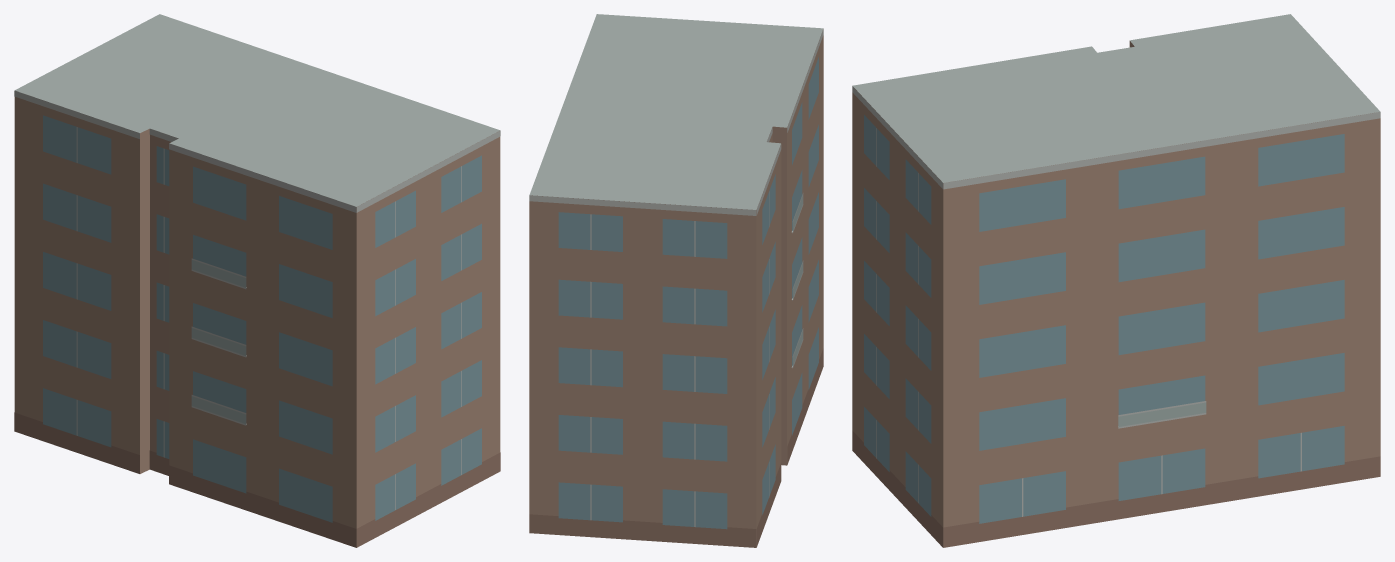
The model's file is survey-upis-32941962.glb.
3 views of the same model, side by side, from view 1: azimuth 30°, elevation 25°; view 2: azimuth 150°, elevation 25°; view 3: azimuth 270°, elevation 25° (orthographic). The views are drawn at different scales.
Parts seen in each view (by area): view 1: survey-upis-32941962.tmp; view 2: survey-upis-32941962.tmp; view 3: survey-upis-32941962.tmp.
Boxes of the visible parts, x1,y1,x2,y2 form: survey-upis-32941962.tmp: (14, 14, 500, 547); survey-upis-32941962.tmp: (529, 14, 823, 547); survey-upis-32941962.tmp: (852, 14, 1380, 547).
Size of the model in its own units: 13.62 by 13.7 by 17.99.
